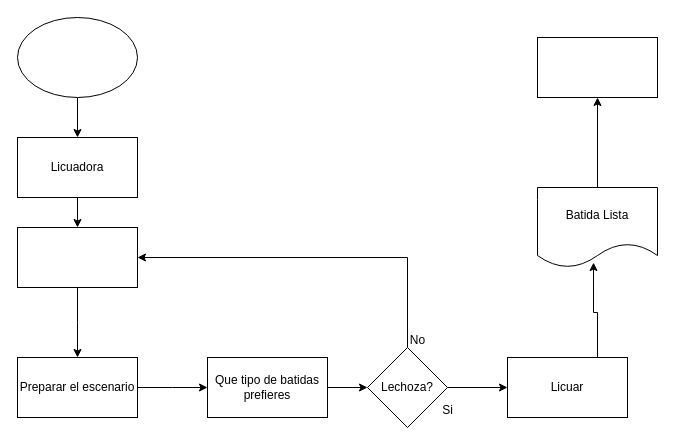
The diagram is 675 pixels wide and 445 high, and some of its shapes have lost their labels. The shapes that lost their labels are listed below. From the top down, each one's centre as x and y in pixels, then its label:
At pixel 77 57: "Inicio".
At pixel 597 67: "FIN".
At pixel 77 257: "Ingrediente".
